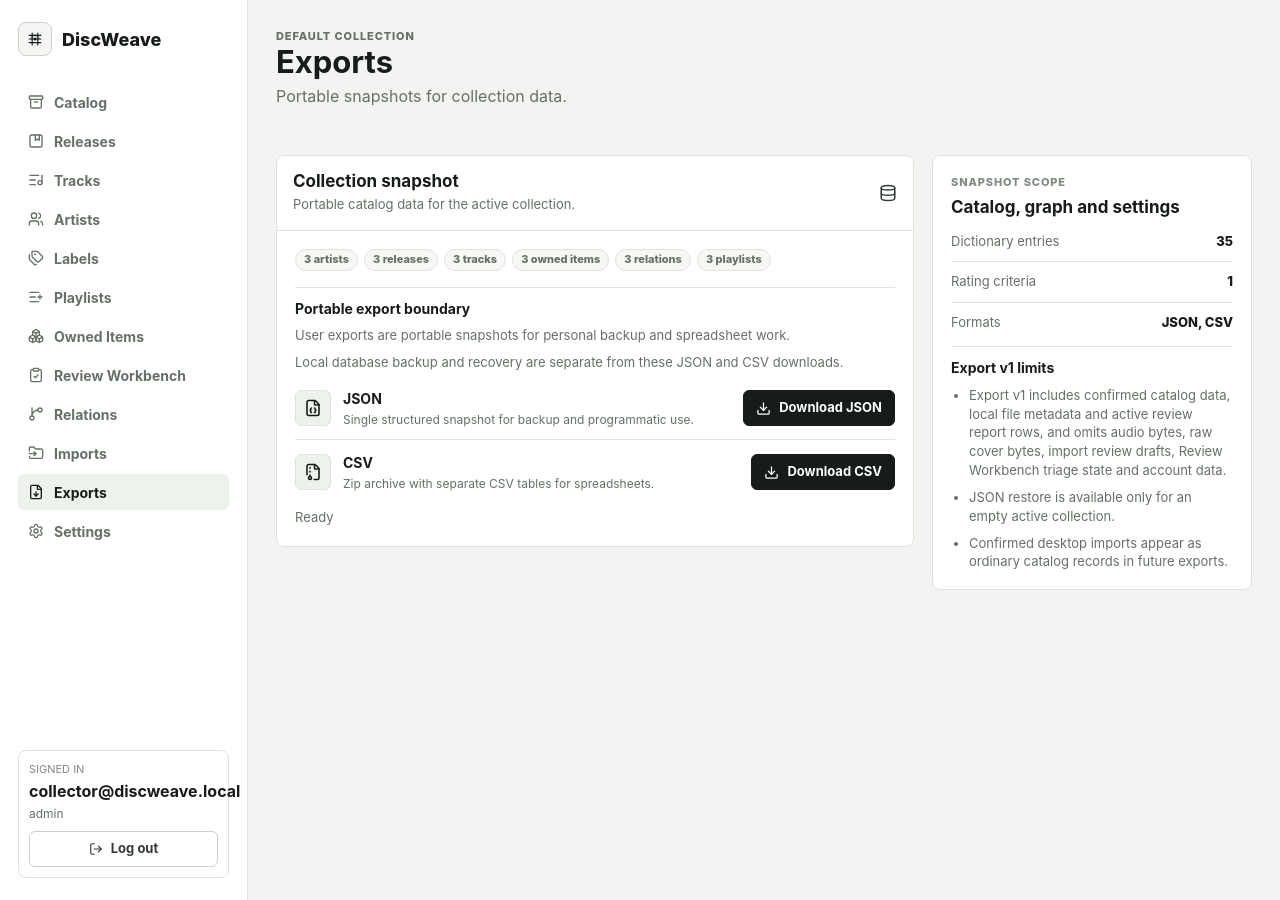
it: App exports › starts JSON exports through authenticated direct browser downloads
Click the button "Download JSON" at {"x": 819, "y": 408}, box [743, 390, 895, 426]
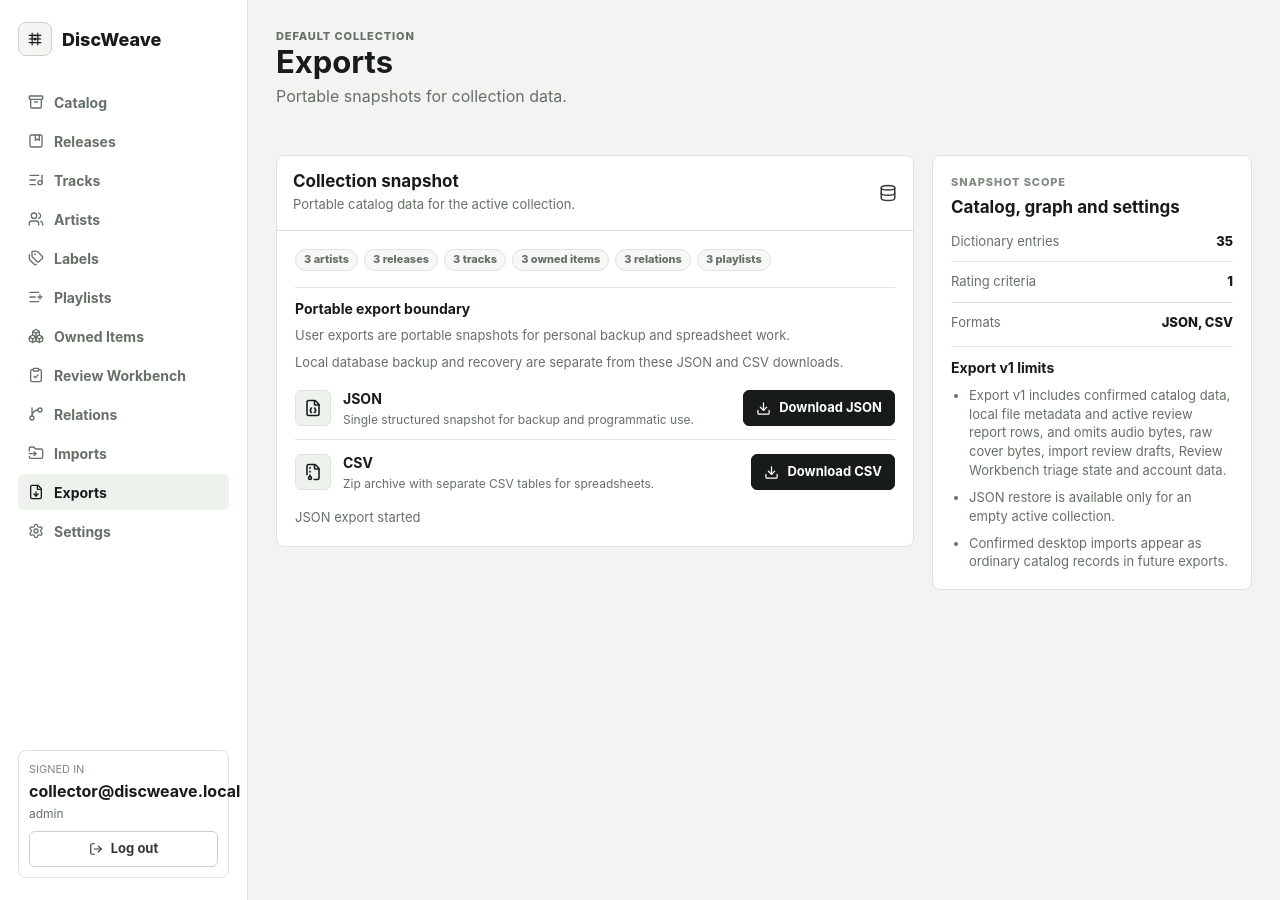
Check: the text "JSON export started" is shown, box [295, 509, 420, 525]
